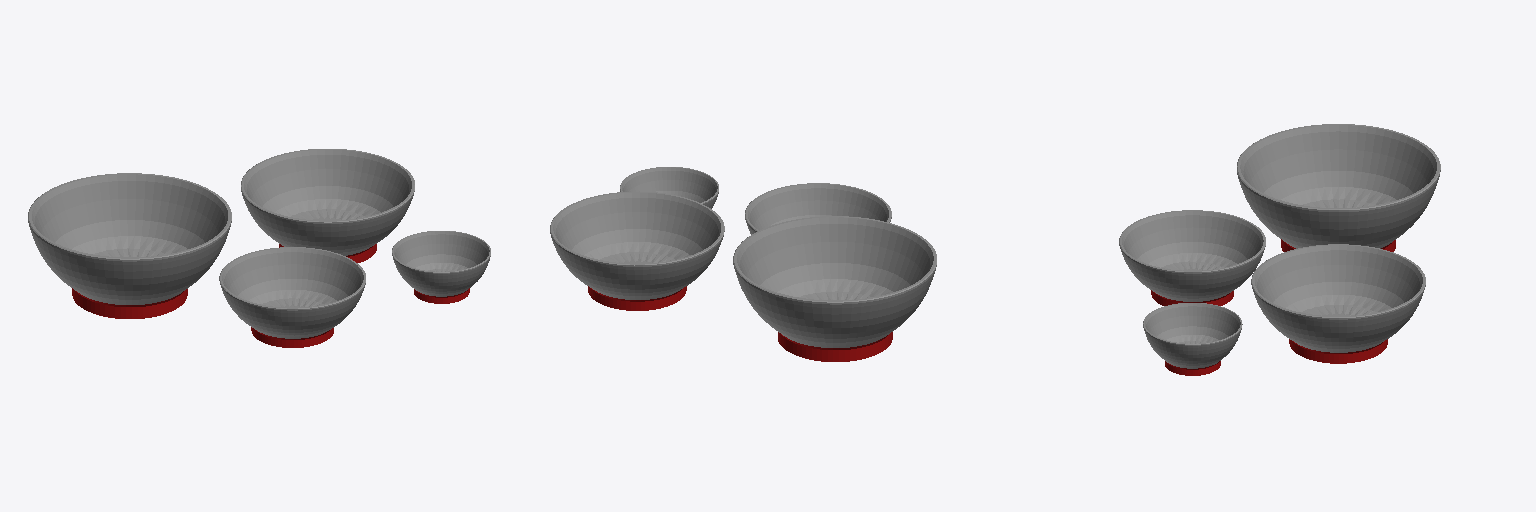
File: Bowls_497.obj
3 renders of one model, left to right at view 1: azimuth 30°, elevation 25°; view 2: azimuth 150°, elevation 25°; view 3: azimuth 270°, elevation 25°, orthographic.
Parts seen in each view (by area): view 1: Sphere001, Sphere002, Sphere003, Sphere004; view 2: Sphere001, Sphere002, Sphere003, Sphere004; view 3: Sphere001, Sphere002, Sphere003, Sphere004.
Boxes of the visible parts, x1,y1,x2,y2 form: Sphere001: [28, 173, 231, 318]; Sphere002: [241, 149, 414, 262]; Sphere003: [219, 247, 365, 347]; Sphere004: [392, 231, 490, 303]; Sphere001: [733, 216, 936, 361]; Sphere002: [550, 191, 724, 310]; Sphere003: [745, 183, 891, 234]; Sphere004: [620, 167, 718, 208]; Sphere001: [1237, 124, 1440, 251]; Sphere002: [1251, 244, 1425, 363]; Sphere003: [1119, 210, 1265, 305]; Sphere004: [1143, 303, 1242, 375].
Bounding box in the file's own units: 152 × 33.19 × 115.